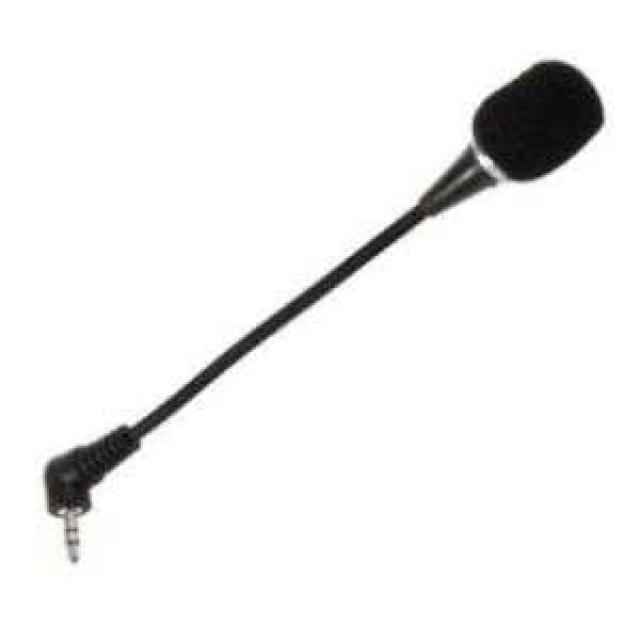microphone: (402, 53, 595, 228)
